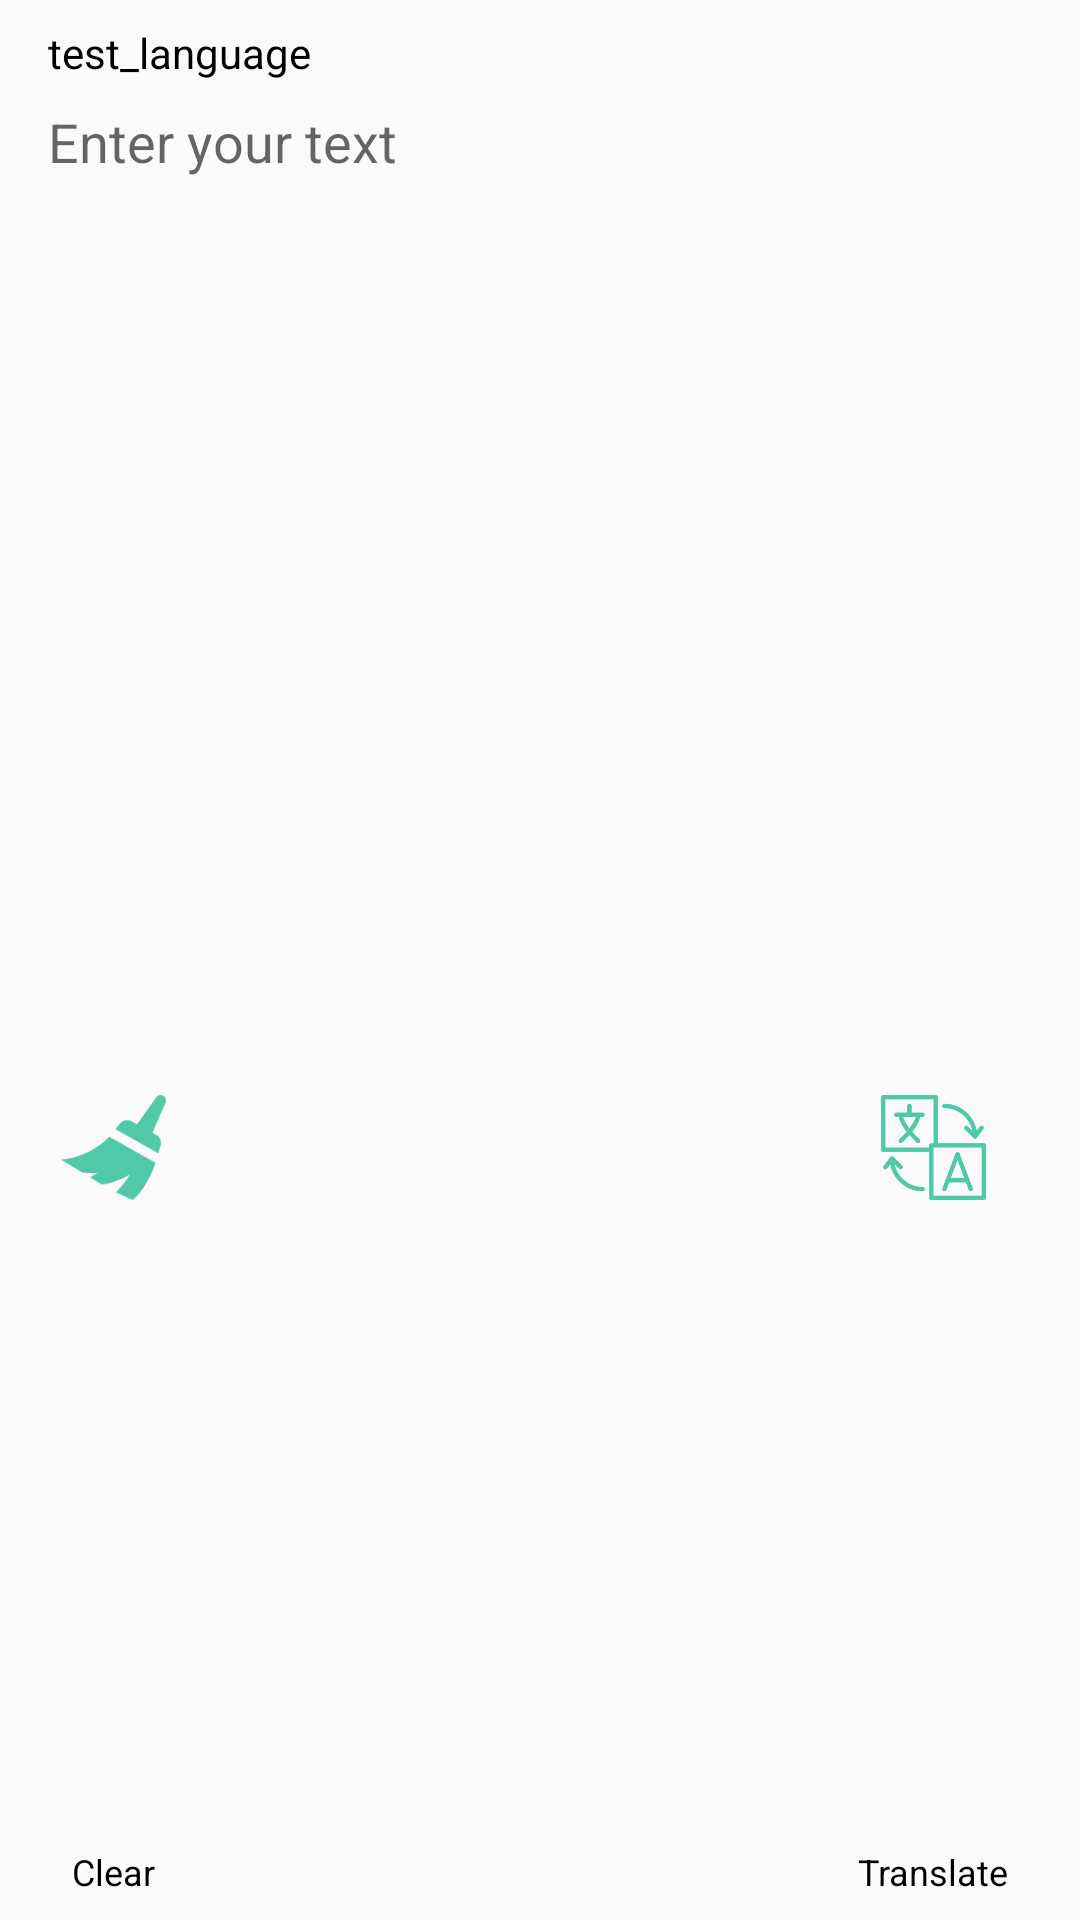

Where icons sit on this 1080 x 1920 app screen, as (x1, y1, x2, y2):
clear: (61, 1095, 166, 1200)
translate: (881, 1095, 986, 1200)
